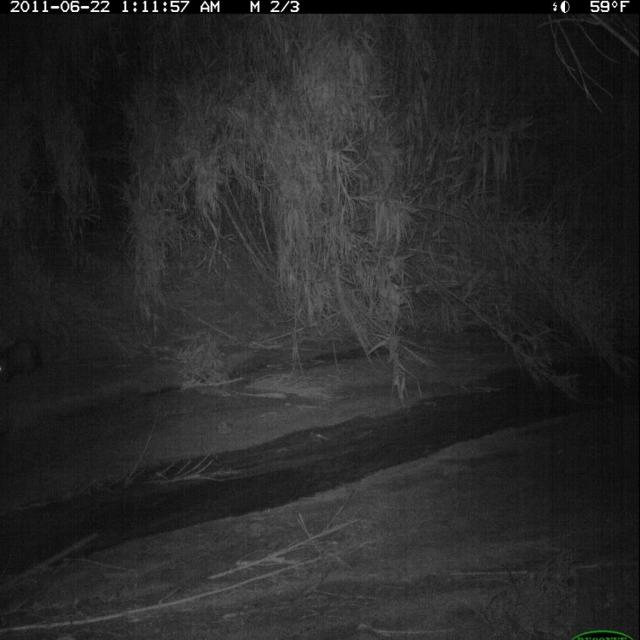opossum: (1, 332, 52, 387)
